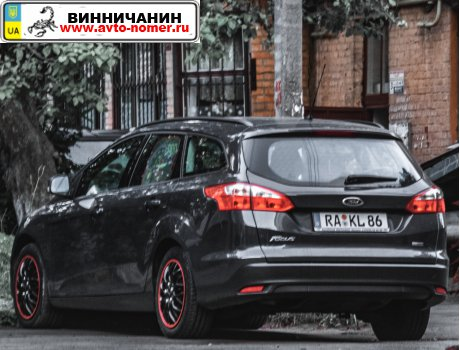License Plates: (318, 212, 390, 230)
